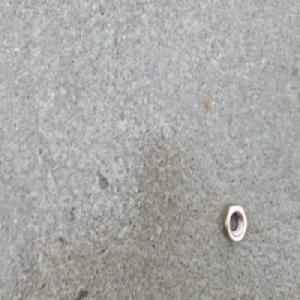Nut: (223, 203, 249, 245)
